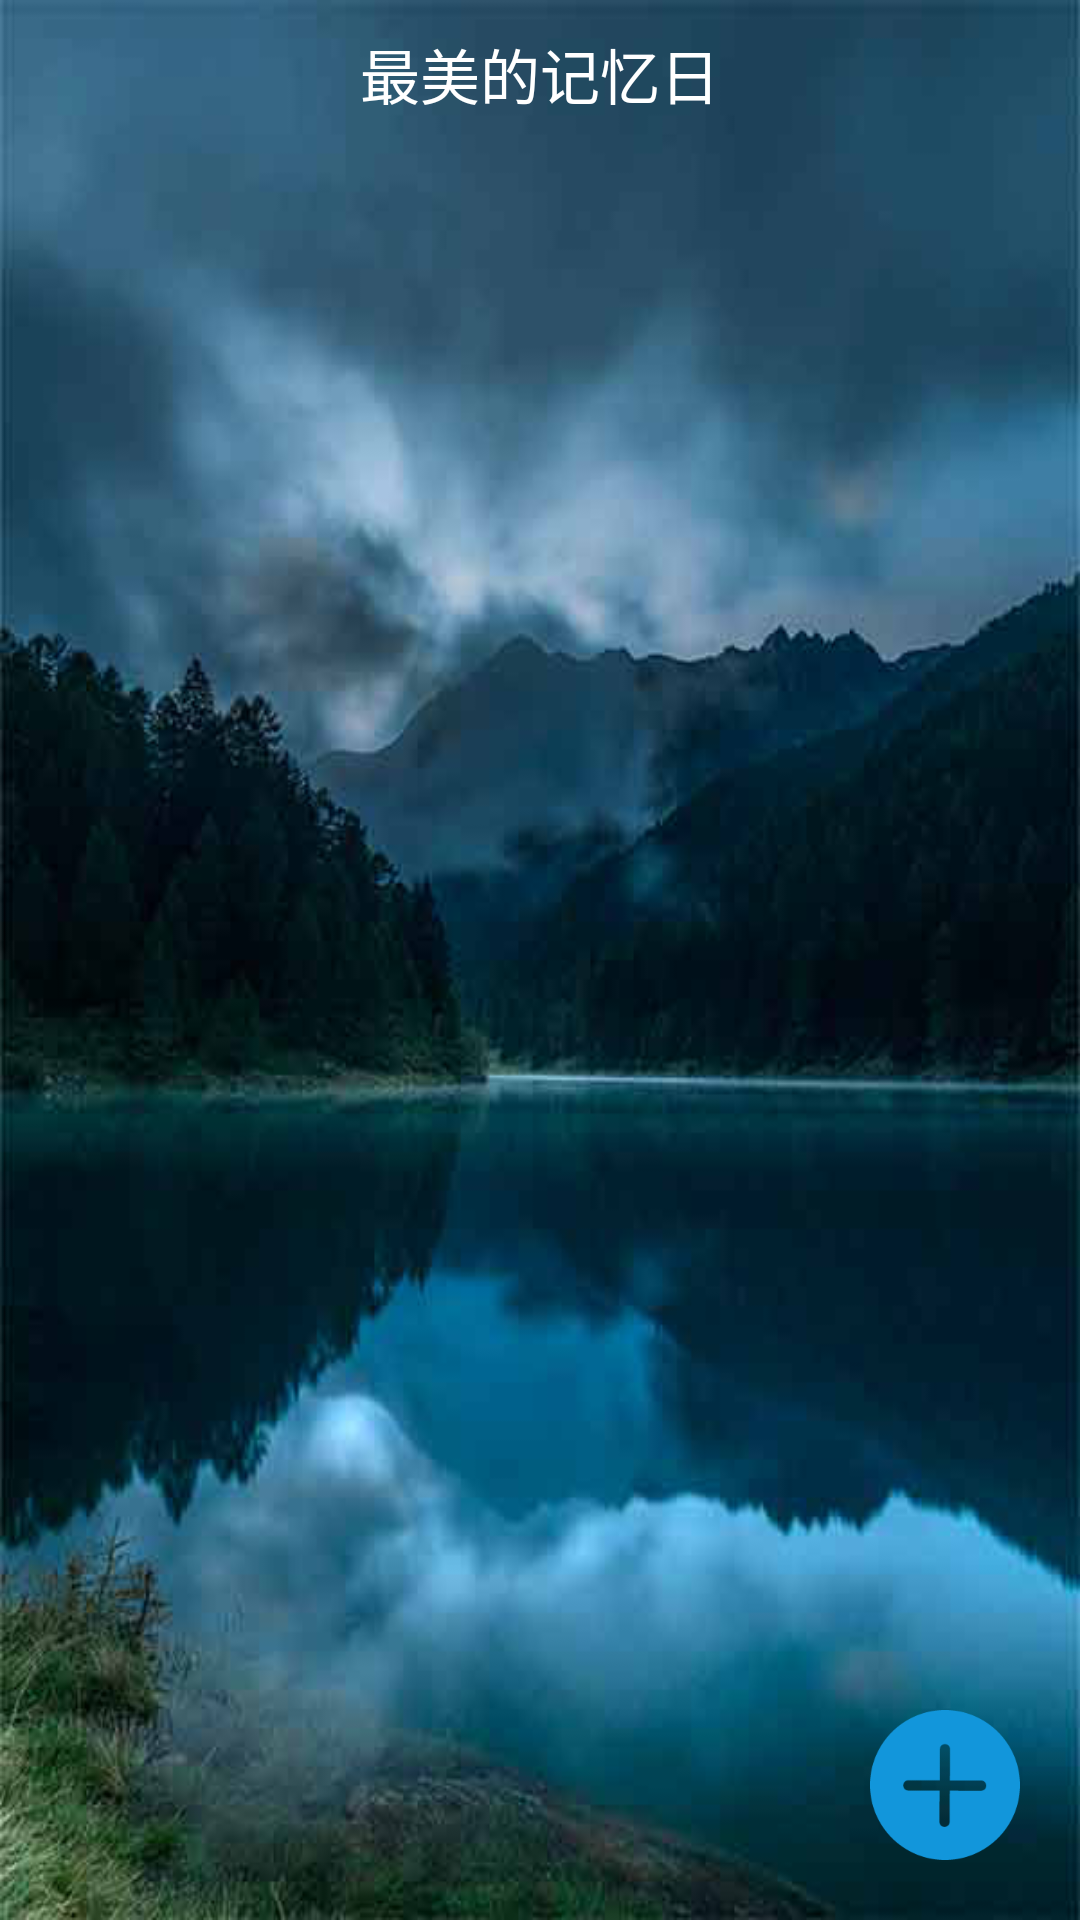

Point at icon controls on the screen. Image size 1080x1920, points as (x,y).
add jnr: (945,1785)
